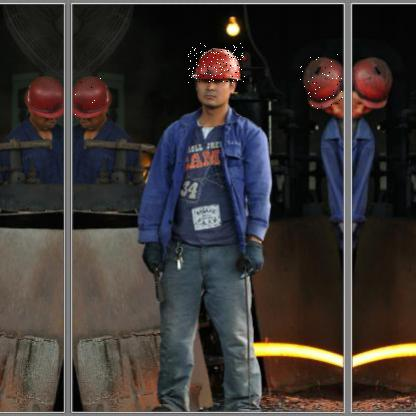safetyhelmet: (299, 53, 344, 111), (188, 43, 246, 84), (71, 74, 115, 121)
